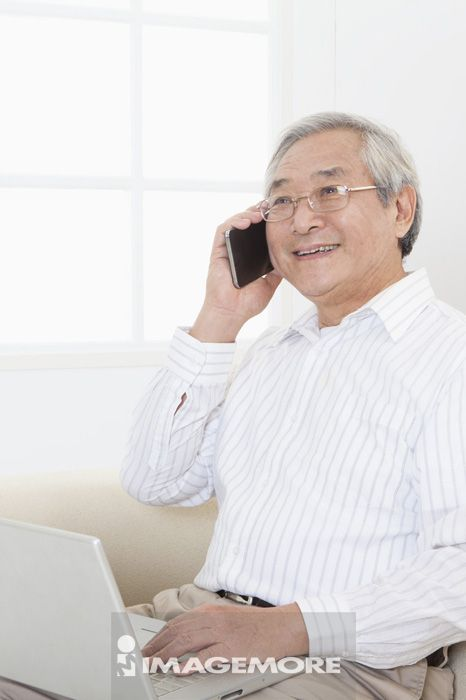phone: (224, 217, 272, 287)
talk: (205, 164, 354, 303)
